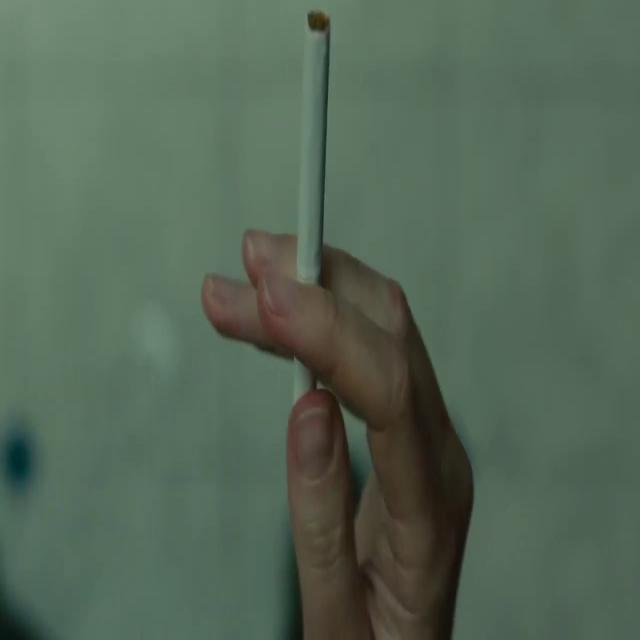Smooking: (290, 2, 332, 444)
